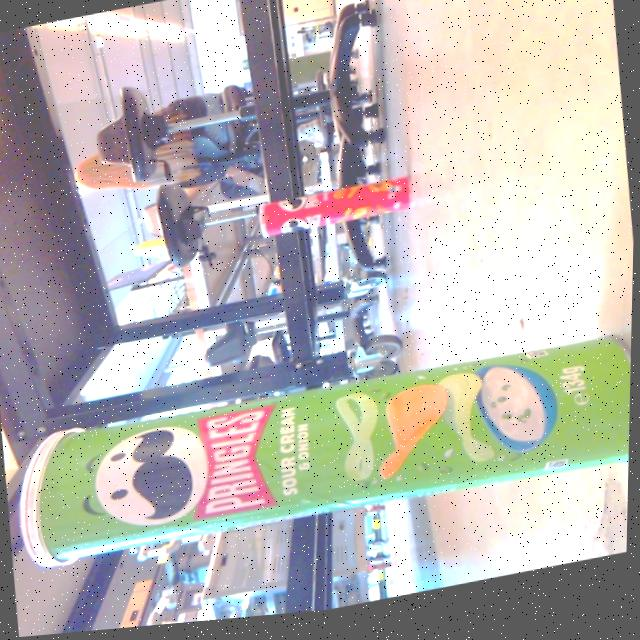greenpringles: (0, 322, 634, 597)
redpringles: (241, 170, 421, 260)
